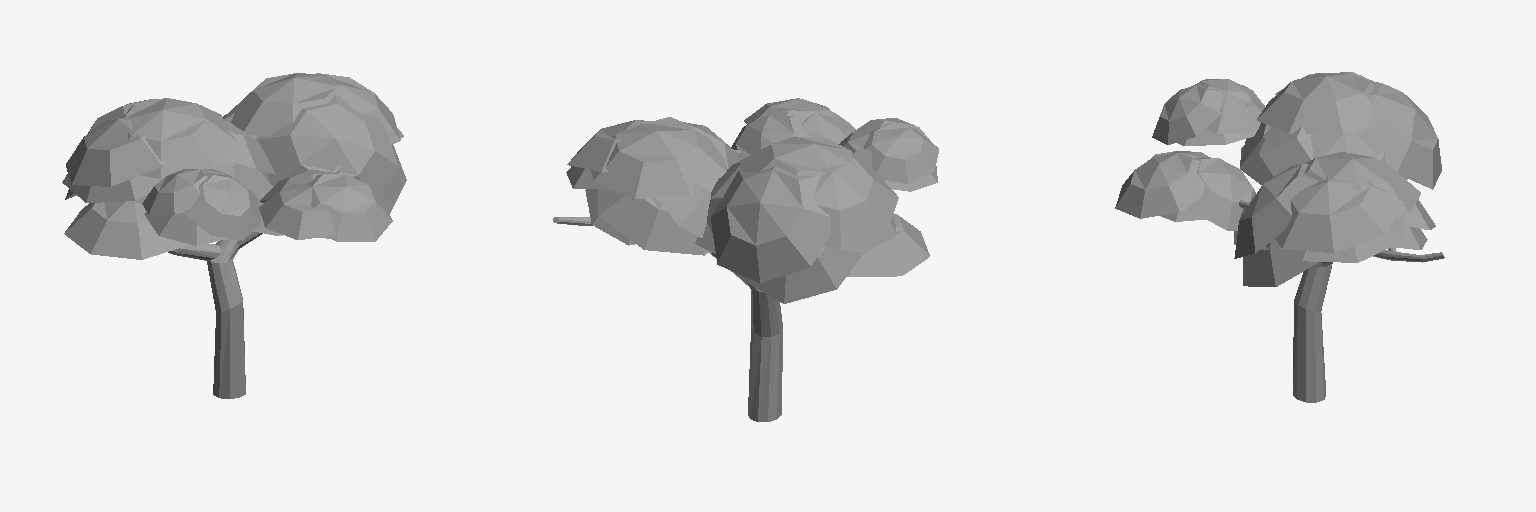
File: Tree_4.obj
3 renders of one model, left to right at view 1: azimuth 30°, elevation 25°; view 2: azimuth 150°, elevation 25°; view 3: azimuth 270°, elevation 25°, orthographic.
Parts seen in each view (by area): view 1: Tree_4; view 2: Tree_4; view 3: Tree_4.
Boxes of the visible parts, x1=… form: Tree_4: x1=62, y1=73, x2=406, y2=398; Tree_4: x1=553, y1=98, x2=938, y2=421; Tree_4: x1=1115, y1=72, x2=1444, y2=402.
Bounding box in the file's own units: 6.27 × 5.33 × 5.46.